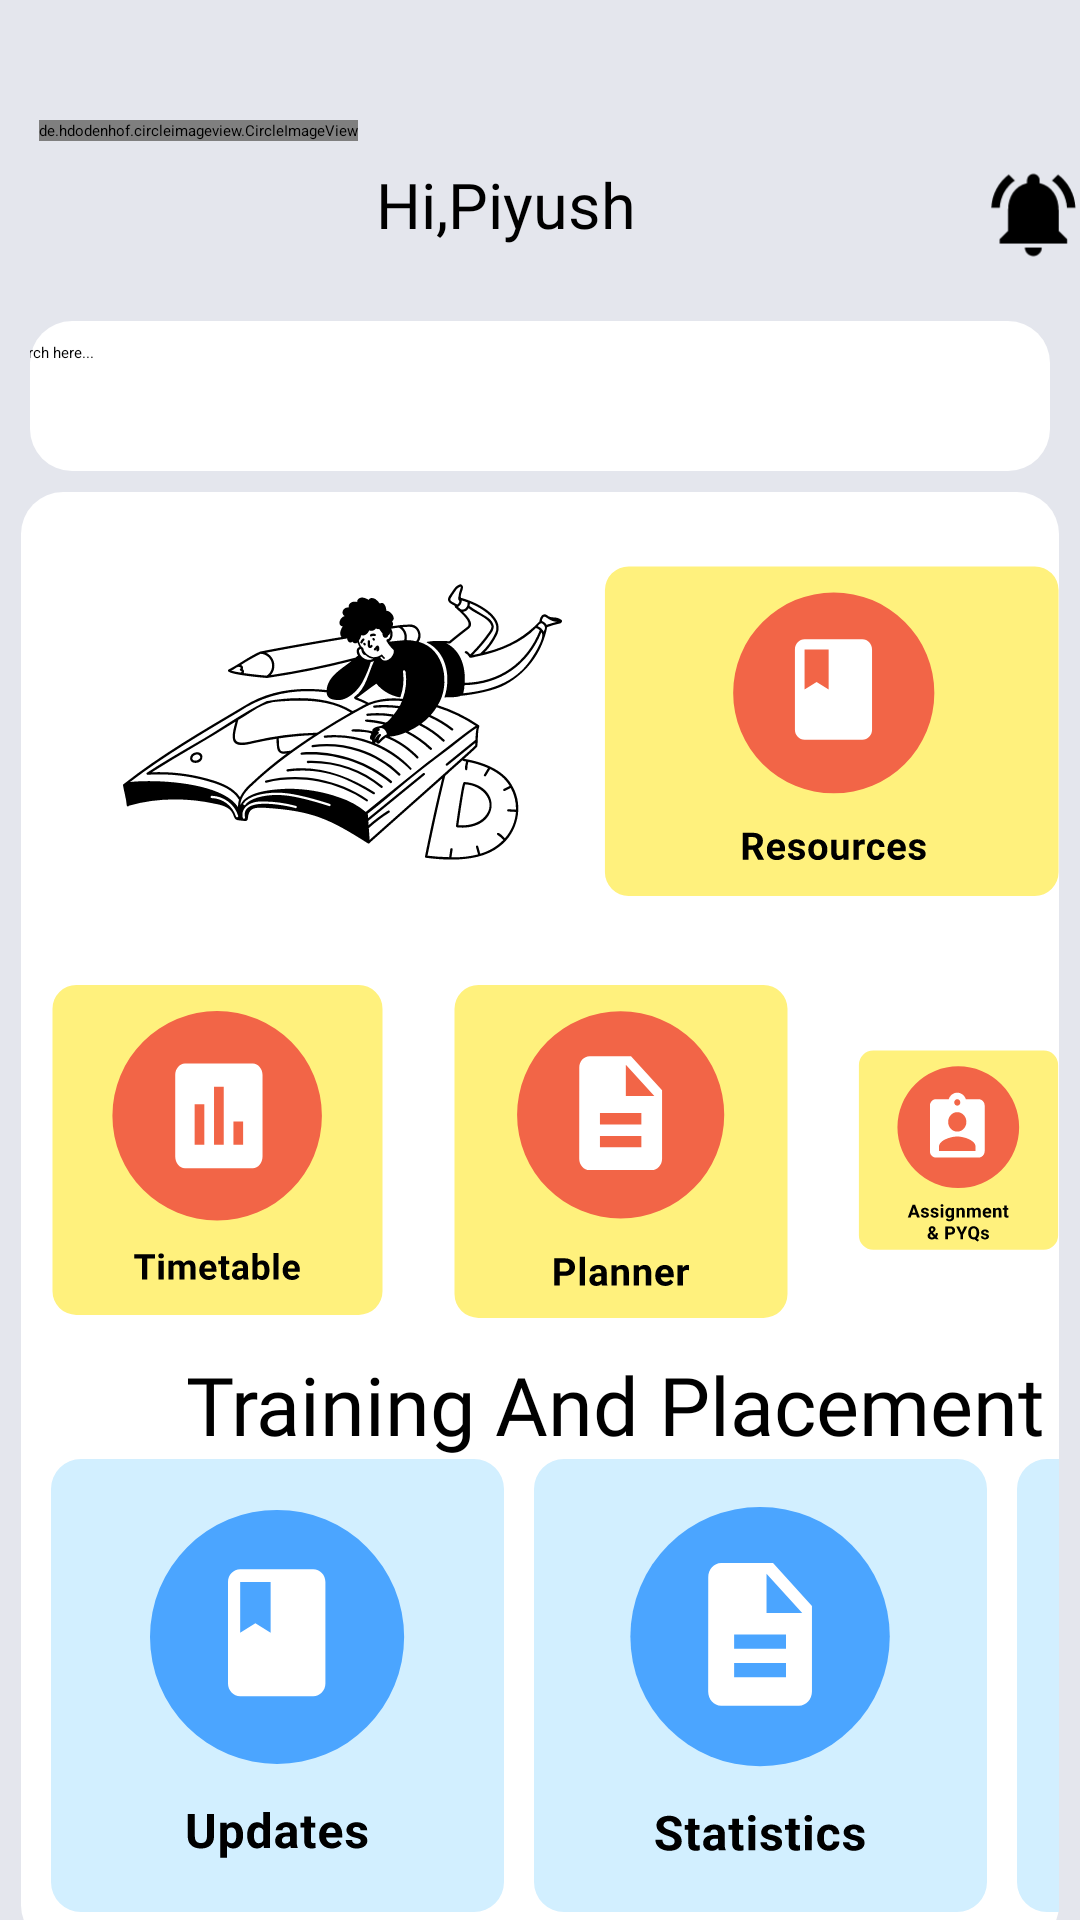

Named icons in this screenshot (1080×1920) and their bounding boxes, (x1=x1, y1=y1, x2=x2, y2=y2):
notifications: (x1=991, y1=173, x2=1076, y2=257)
